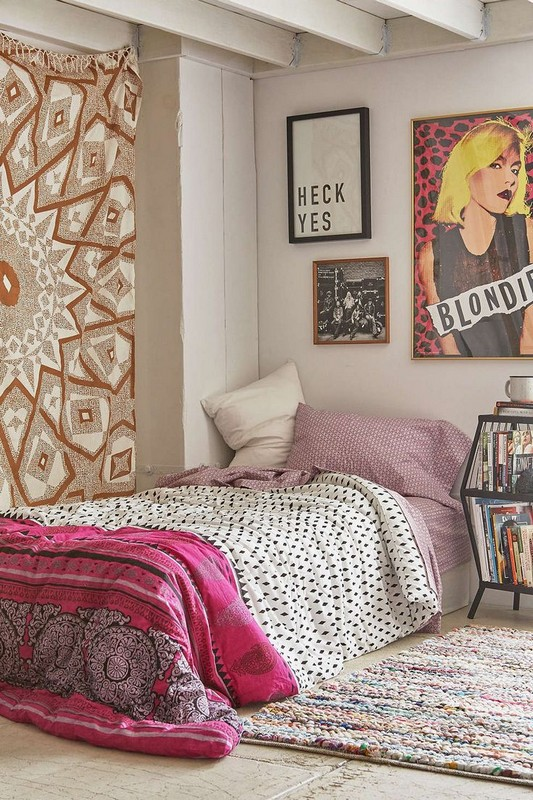bed: (15, 380, 465, 767)
